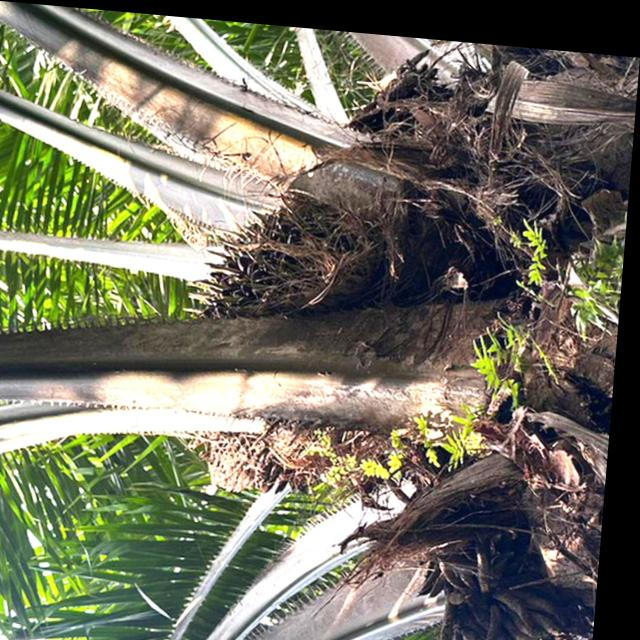unripe: (185, 179, 377, 350)
